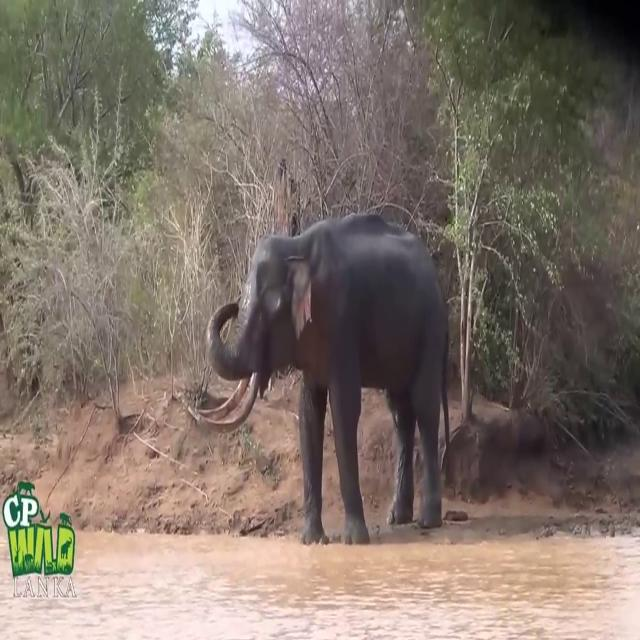Elephant: (196, 212, 452, 546)
